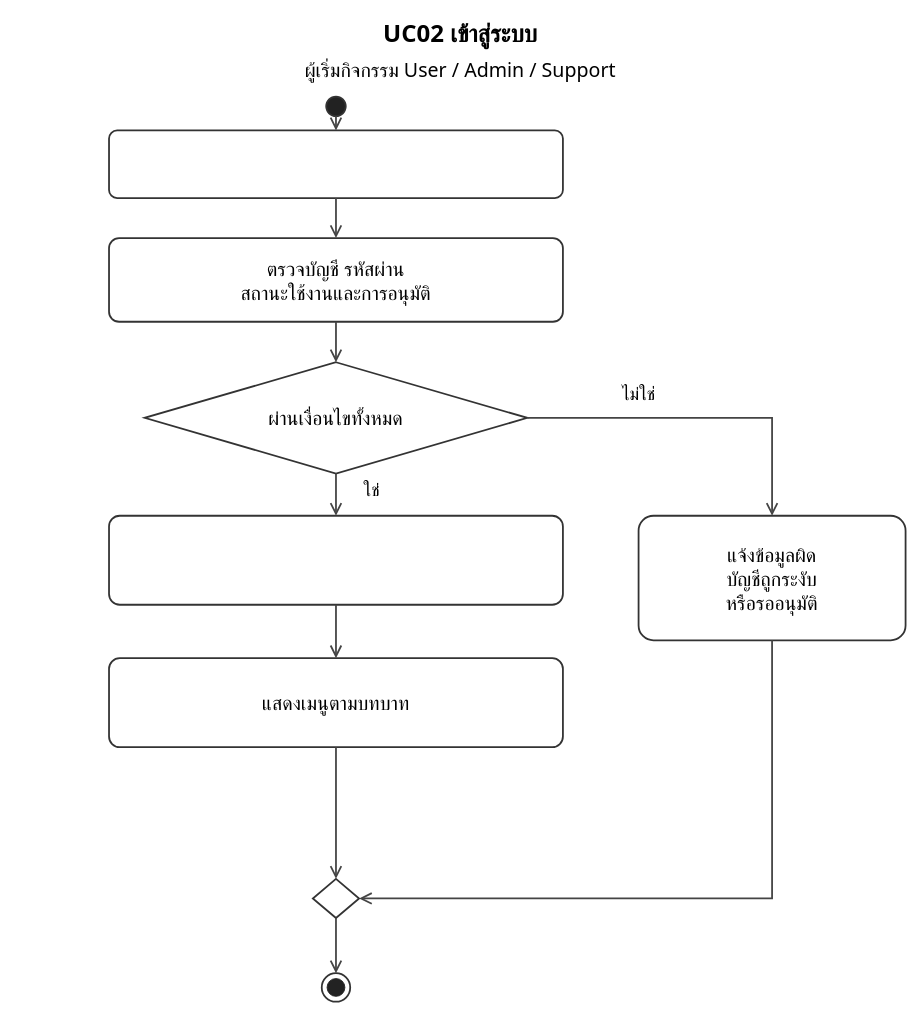
This 921x1017 diagram has some shape labels left out. The box of each missing label's shape, as (x1, y1, x2, y2) in pixels:
กรอกอีเมลและรหัสผ่าน: (108, 129, 563, 198)
สร้าง access token: (108, 514, 563, 605)
